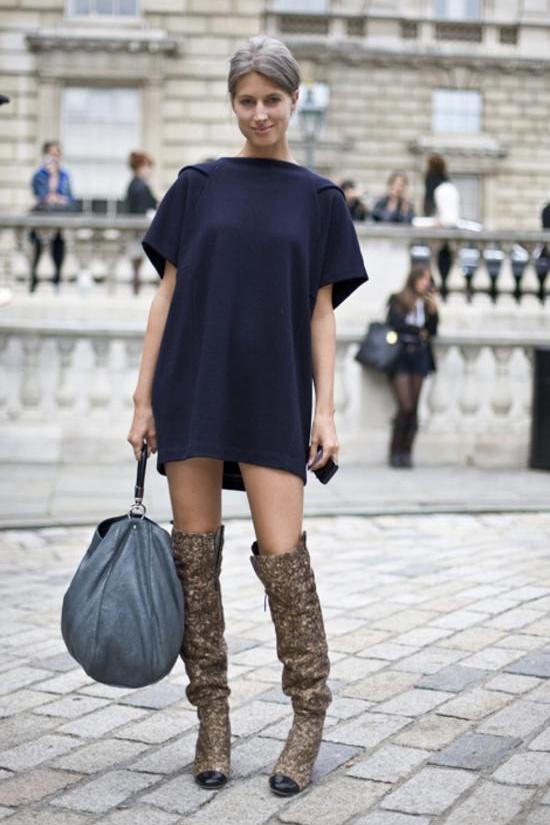dress: (140, 157, 369, 492)
